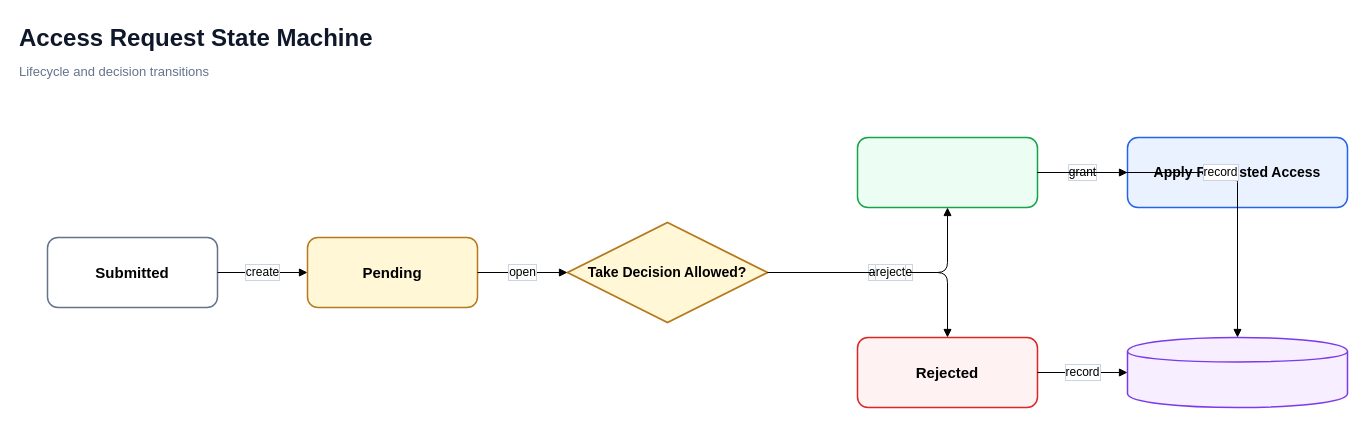
Image size: 1365x425. Some labels were removed from this diagram. Each missing label, with the centre of its shape:
Approved: pixel 947 172
Decision Reason + Audit: pixel 1237 372
